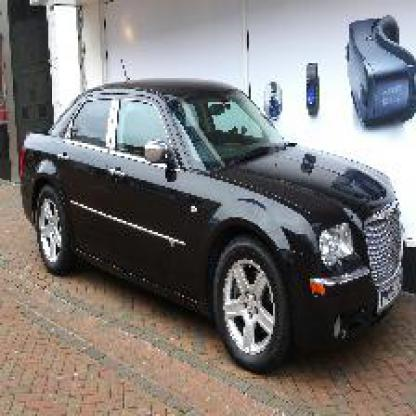not_emergency: (2, 67, 410, 382)
